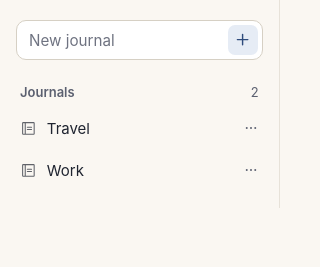
Scenario: JournalsSidePanel › creates a journal, clears the input and makes it active
Type "Dreams" into the field named "New journal name".
click(124, 40); type("Dreams")  # box [21,25,228,55]
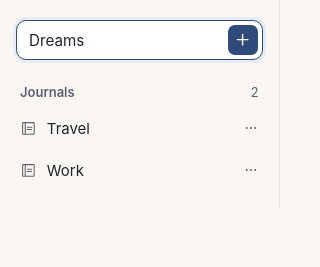
Click the button named "Create journal".
click(243, 40)  # box [228,25,258,55]
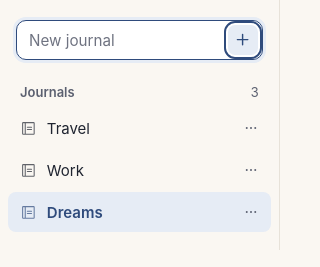
Check: the button "Dreams" is shown, box [8,192,237,232]
Check: the field named "New journal name" is empty, box [21,25,228,55]
